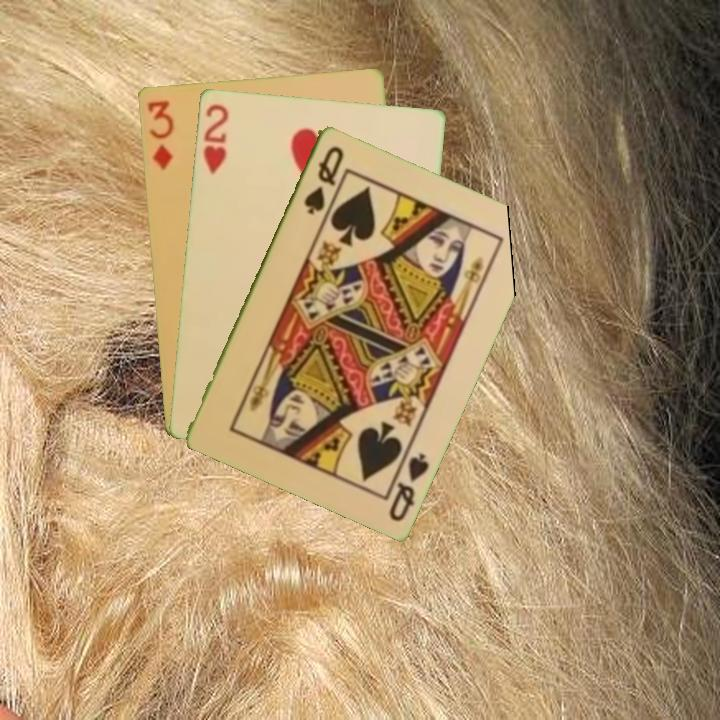2h: (199, 100, 231, 178)
3d: (143, 97, 176, 173)
Qs: (382, 443, 432, 524), (300, 142, 347, 217)
